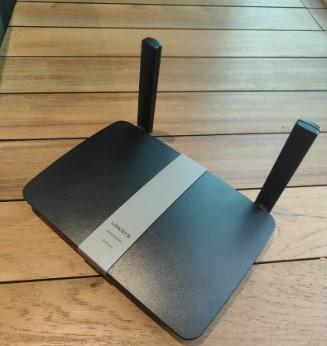Router: (22, 38, 321, 342)
